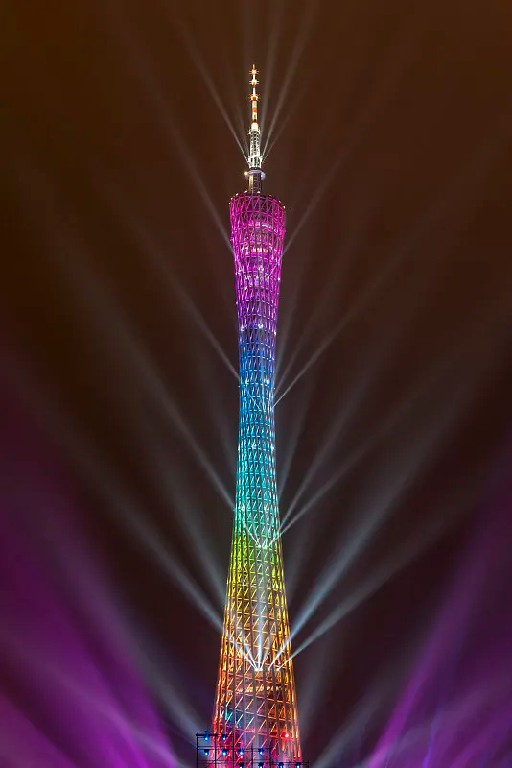Canton: (204, 63, 301, 768)
